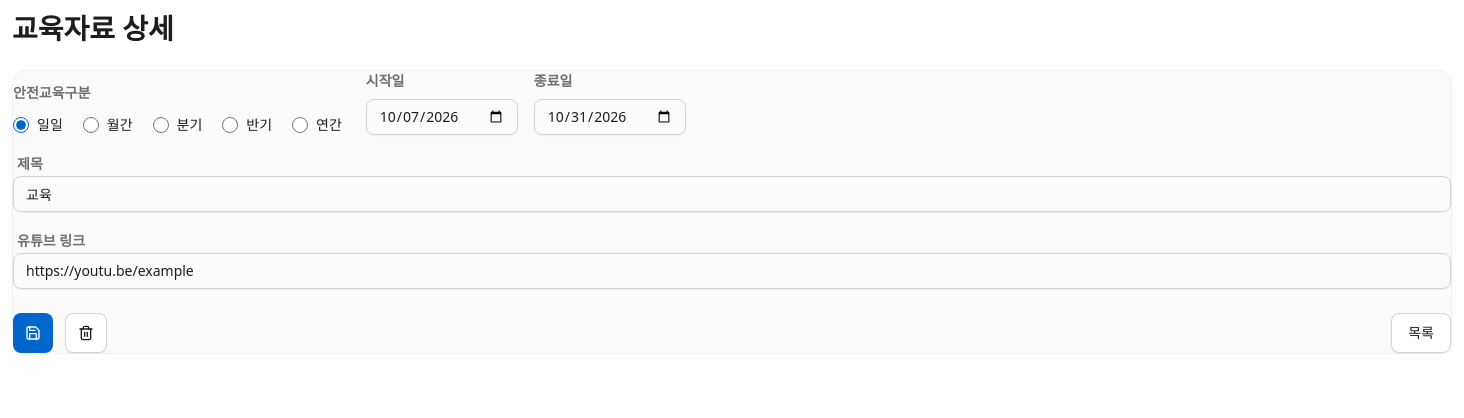
Test case: education resource save page › shows the period overlap error when saving changes
Expected: the field showing "교육" is shown, [13, 176, 1451, 212]
Click the button named "저장".
click(33, 333)  # box [13, 313, 53, 353]
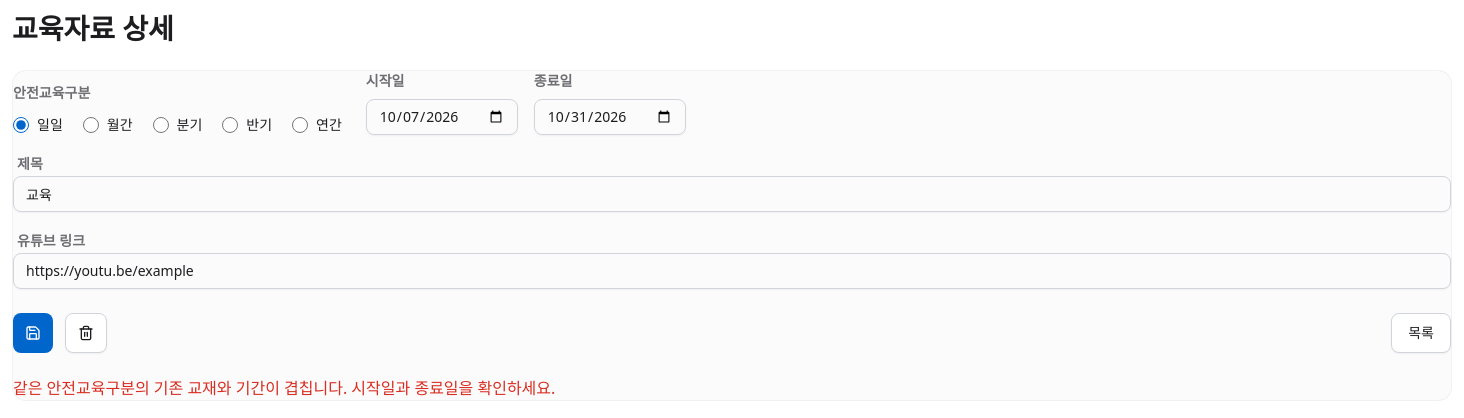
Expected: the date field labelled "시작일" holds "2026-10-07", [366, 99, 518, 135]
Now the text "같은 안전교육구분의 기존 교재와 기간이 겹칩니다. 시작일과 종료일을 확인하세요." is shown, box [13, 377, 555, 399]
